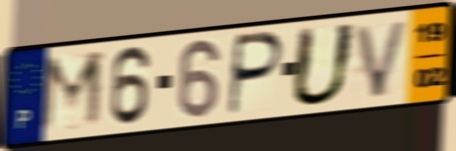6: (176, 37, 222, 121), (108, 44, 152, 128)
M: (36, 48, 106, 137)
P: (225, 29, 287, 118)
U: (287, 21, 360, 110)
V: (353, 17, 413, 101)
